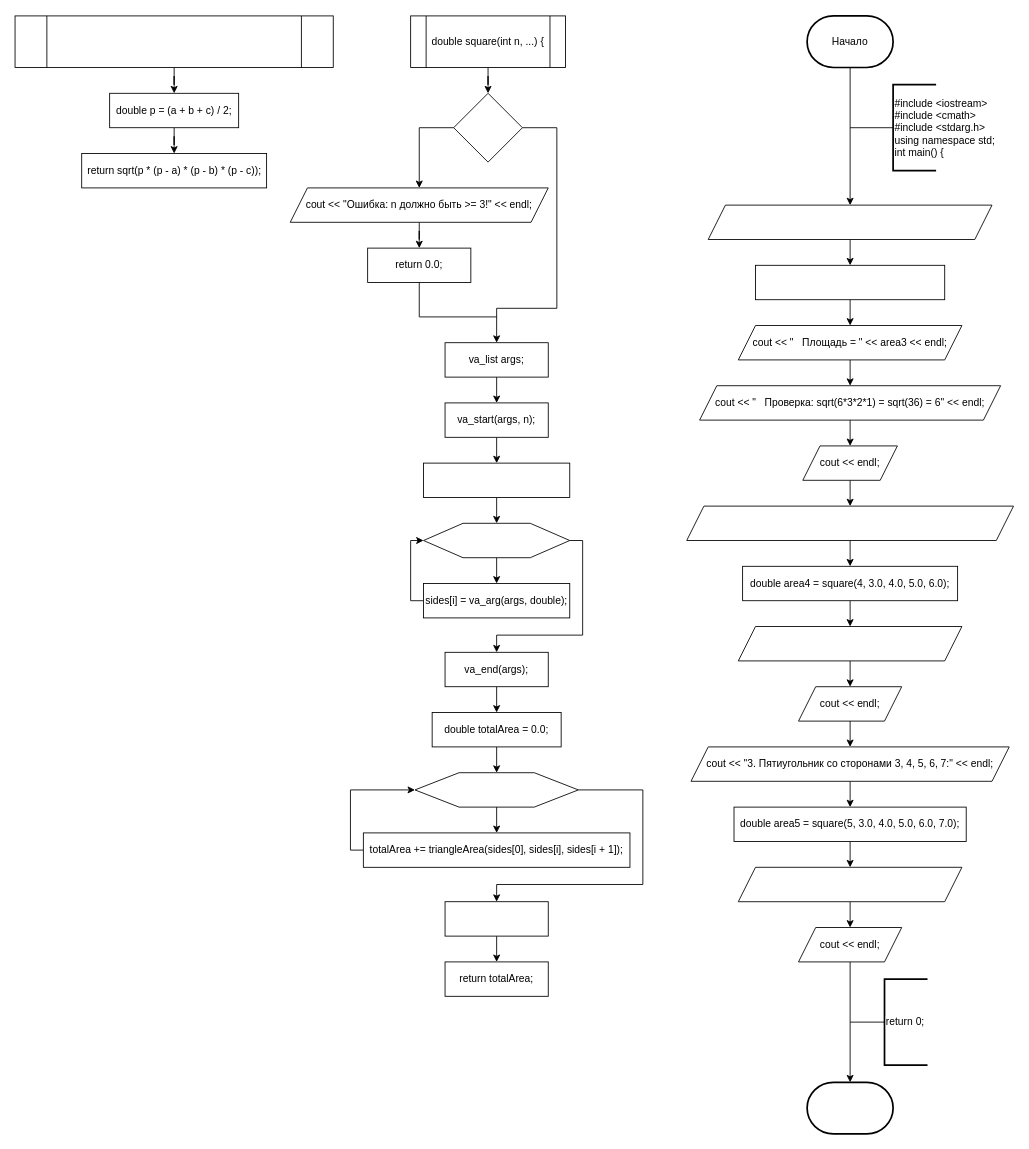
This 1029x1149 diagram has some shape labels left out. The box of each missing label's shape, as (x1, y1, x2, y2) in pixels:
cout << " Площадь = " << area4 << endl;: (737, 626, 962, 661)
cout << " Площадь = " << area5 << endl;: (737, 866, 962, 902)
cout << "1. Треугольник со сторонами 3, 4, 5:" << endl;: (707, 204, 992, 240)
cout << "2. Четырехугольник со сторонами 3, 4, 5, 6:" << endl;: (686, 505, 1014, 541)
delete[] sides;: (444, 901, 548, 936)
double area3 = square(3, 3.0, 4.0, 5.0);: (755, 264, 945, 300)
double triangleArea(double a, double b, double c) {: (14, 15, 333, 68)
double* sides = new double[n];: (423, 462, 570, 498)
for (int i = 0; i < n; i++) {: (423, 522, 570, 558)
for (int i = 1; i < n - 1; i++) {: (414, 772, 578, 807)
if (n < 3) {: (453, 92, 522, 162)
